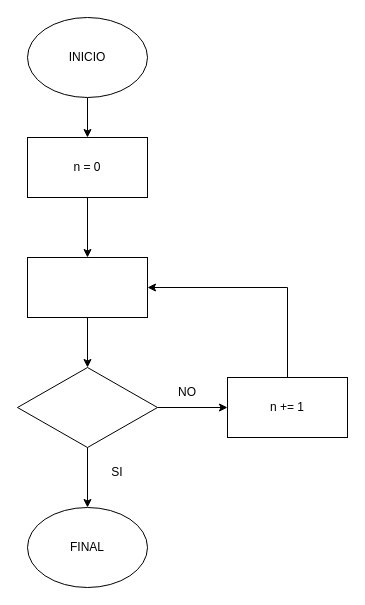
Some shapes in this 365 by 605 pixel diagram are drawn without their labels. The shapes that lost their labels are listed below. From the top down, each one's centre as x and y in pixels, then its label:
(87,287): resto = (6 ^ n) % 13 return resto
(87,407): resto == 2 return n
